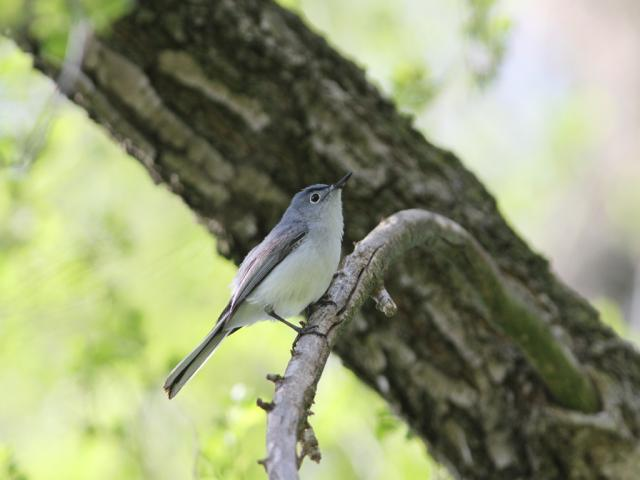Bird: (162, 171, 354, 404)
